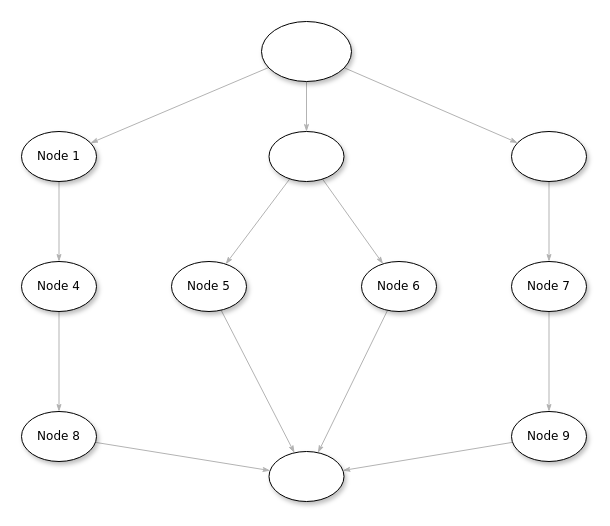
Image size: 610x526. Some labels were removed from this diagram. Here are the shapes that lost their labels. From the top down, the centre of each, then its label:
At [307,52]: "Starting node".
At [307,157]: "Node 2".
At [549,157]: "Node 3".
At [307,477]: "End node".
